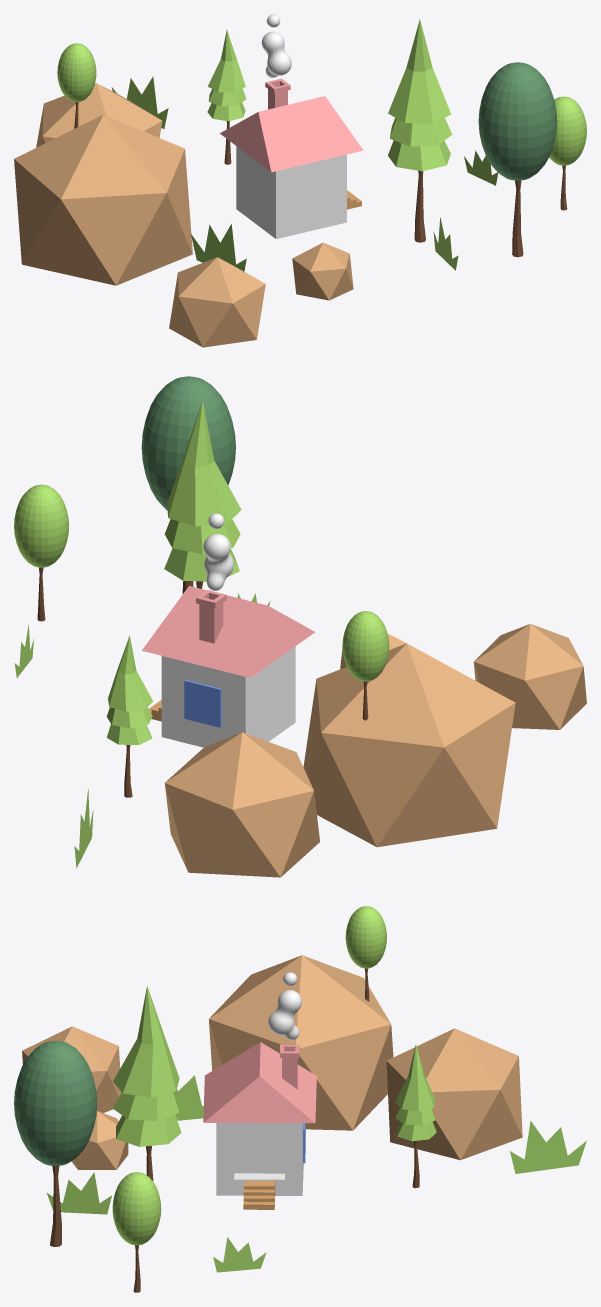
The model's file is lowpolydemo.glb.
3 renders of one model, top to bottom at view 1: azimuth 30°, elevation 25°; view 2: azimuth 150°, elevation 25°; view 3: azimuth 270°, elevation 25°, orthographic. The views are drawn at different scales.
Visible parts, largest first — view 1: Icosphere.003, Cube, Sphere, Icosphere.002, Cylinder.002, Icosphere.001, Icosphere, Cylinder.001, Sphere.002, Sphere.001, Mball.004, Plane.001 (+6 smaller); view 2: Icosphere.003, Cube, Icosphere.001, Icosphere.002, Cylinder.002, Sphere, Sphere.002, Cylinder.001, Sphere.001, Mball.004, Cube.001; view 3: Icosphere.003, Cube, Icosphere.001, Sphere, Cylinder.002, Sphere.002, Icosphere.002, Cylinder.001, Sphere.001, Plane.003, Icosphere, Plane.004 (+6 smaller).
Part boxes in pixels (x1,y1,x2,y2): Icosphere.003: (14, 114, 192, 285); Cube: (220, 96, 363, 238); Sphere: (478, 62, 557, 180); Icosphere.002: (169, 257, 265, 347); Cylinder.002: (388, 19, 452, 171); Icosphere.001: (36, 83, 162, 147); Icosphere: (292, 242, 353, 300); Cylinder.001: (207, 29, 246, 121); Sphere.002: (549, 96, 586, 165); Sphere.001: (57, 43, 96, 102); Mball.004: (261, 14, 291, 77); Plane.001: (190, 224, 246, 271); Icosphere.003: (303, 643, 515, 847); Cube: (142, 586, 314, 747); Icosphere.001: (164, 732, 319, 877); Icosphere.002: (473, 624, 586, 729); Cylinder.002: (164, 400, 241, 581); Sphere: (141, 376, 235, 510); Sphere.002: (14, 484, 68, 567); Cylinder.001: (106, 635, 153, 744); Sphere.001: (342, 611, 389, 681); Mball.004: (203, 513, 233, 590); Cube.001: (196, 590, 226, 643); Icosphere.003: (208, 955, 393, 1130); Cube: (203, 1042, 316, 1195); Icosphere.001: (386, 1028, 522, 1160); Sphere: (14, 1040, 97, 1166); Cylinder.002: (113, 986, 181, 1146); Sphere.002: (112, 1172, 161, 1245); Icosphere.002: (22, 1026, 121, 1112); Cylinder.001: (395, 1044, 436, 1141); Sphere.001: (345, 906, 386, 968); Plane.003: (510, 1121, 586, 1173); Icosphere: (71, 1111, 128, 1169); Plane.004: (47, 1172, 111, 1214).
Size of the model in its own units: 11.1 by 4.98 by 10.82.
